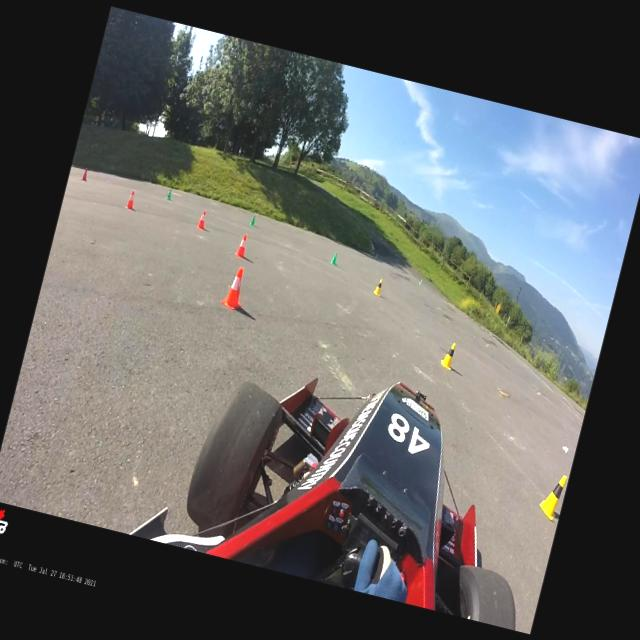orange_cone: (219, 265, 250, 311), (234, 233, 249, 259), (124, 189, 138, 210), (195, 210, 208, 230)
unknown_cone: (329, 250, 338, 264), (81, 168, 89, 182), (248, 214, 256, 227), (165, 188, 172, 200), (418, 276, 423, 286)
yellow_cone: (535, 470, 567, 522), (439, 340, 458, 370), (372, 277, 384, 297)
